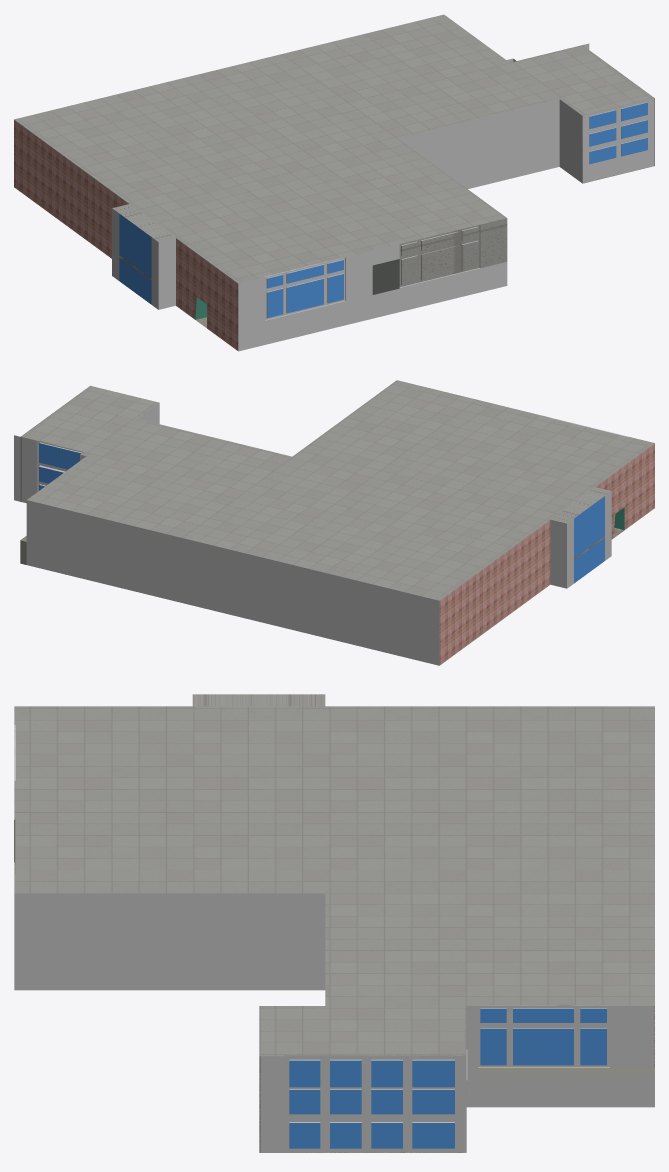
The model's file is ComedorFinalizado8.fbx.
3 views of the same model, one above another, from view 1: azimuth 30°, elevation 25°; view 2: azimuth 150°, elevation 25°; view 3: azimuth 270°, elevation 25° (orthographic). The views are drawn at different scales.
Visible parts, largest first — view 1: Techo, Cube; view 2: Techo, Cube; view 3: Techo, Cube.
Part boxes in pixels (x1,y1,x2,y2): Techo: (14,14,653,283); Cube: (14,26,654,351); Techo: (22,380,654,600); Cube: (14,385,654,665); Techo: (14,694,654,1056); Cube: (14,725,654,1152).
Bounding box in the file's own units: 4877 × 600 × 3602.
